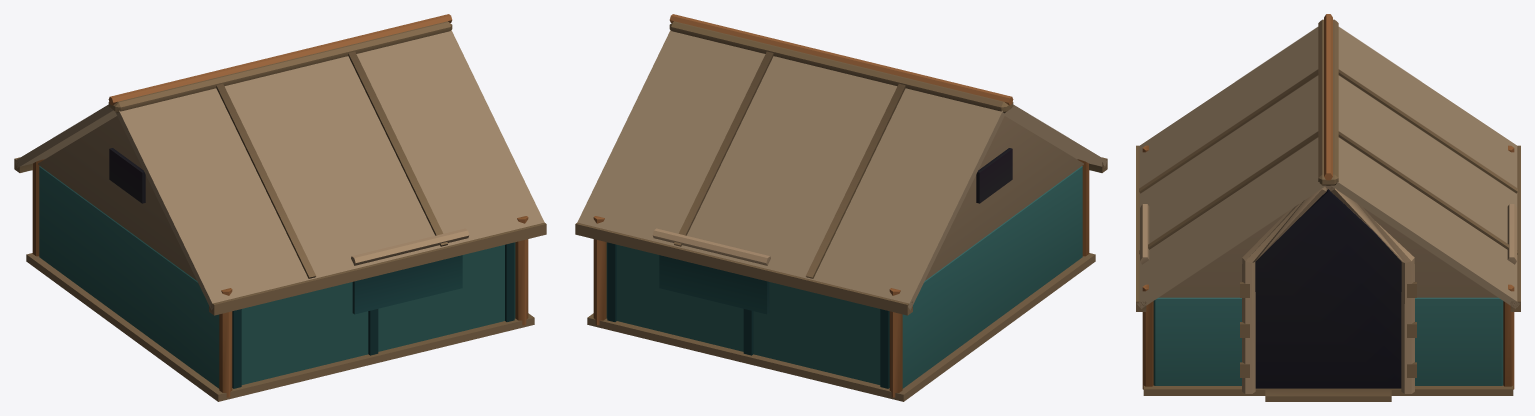
Rendered from prop.tent.glb.
The picture shows the model from 3 angles, left to right: view 1: azimuth 30°, elevation 25°; view 2: azimuth 150°, elevation 25°; view 3: azimuth 270°, elevation 25°; orthographic projection. The views are drawn at different scales.
Parts seen in each view (by area): view 1: body; view 2: body; view 3: body.
Part boxes in pixels (x1,y1,x2,y2): body: [14, 14, 546, 401]; body: [575, 14, 1107, 401]; body: [1136, 14, 1520, 401].
Size of the model in its own units: 3 by 1.99 by 3.04.
